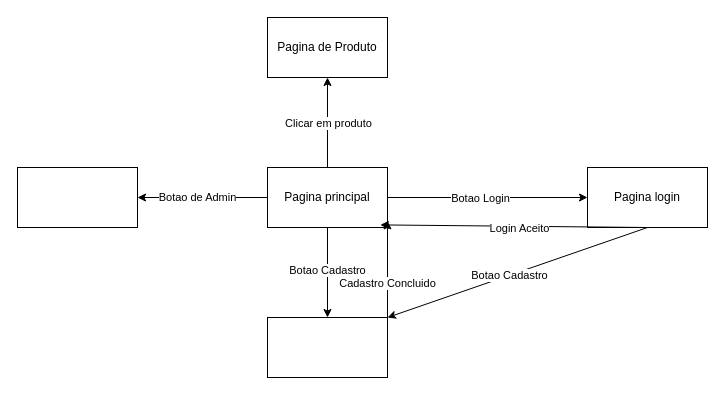
This 725x395 diagram has some shape labels left out. Here are the shapes that lost their labels. From the top down, the centre of each, then its label:
At (x=77, y=197): "Pagina de Admin".
At (x=327, y=347): "Pagina Cadastro".
